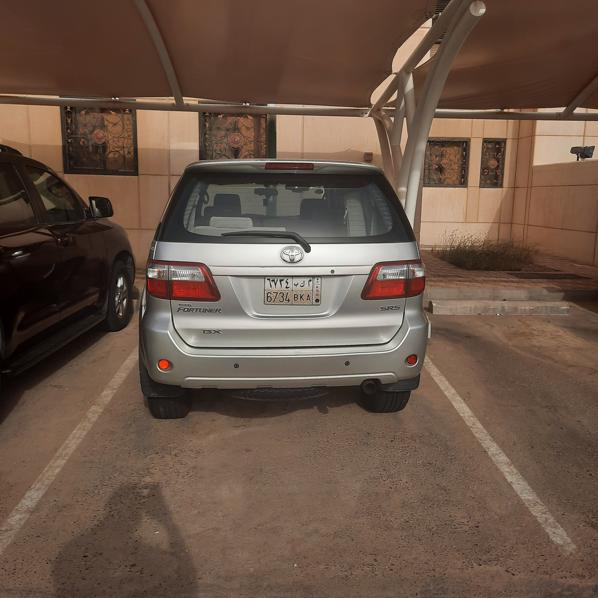numberplate: (264, 275, 321, 305)
